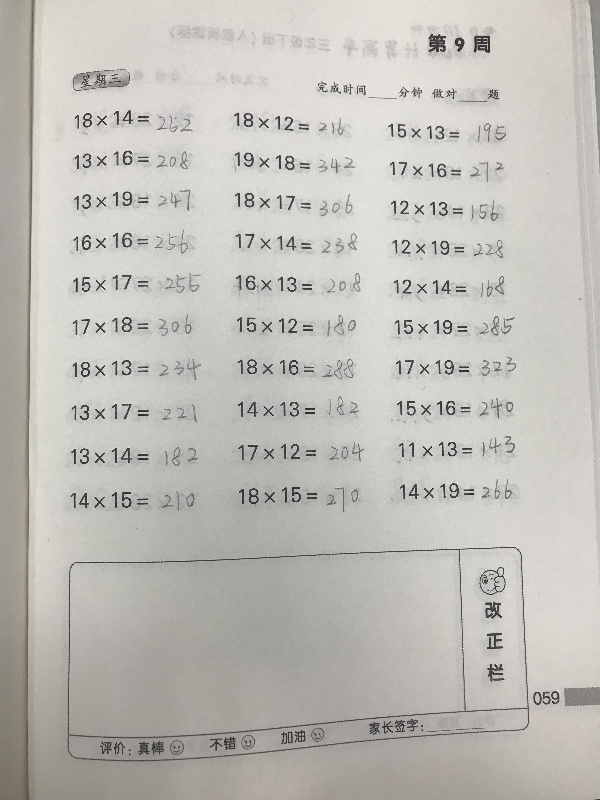equation: (392, 353, 521, 393), (229, 305, 360, 344), (69, 356, 205, 389), (70, 225, 199, 258), (70, 396, 203, 427), (68, 438, 201, 469), (67, 482, 200, 513), (231, 393, 364, 424), (235, 436, 368, 467), (237, 479, 370, 510), (70, 105, 196, 137), (385, 114, 511, 146), (393, 433, 519, 464), (231, 189, 356, 220), (69, 312, 197, 342), (68, 270, 204, 298), (386, 476, 520, 504), (228, 354, 357, 383), (390, 313, 519, 342), (393, 395, 517, 425), (70, 186, 198, 215), (231, 229, 361, 257), (228, 150, 358, 178), (389, 273, 508, 303), (389, 236, 508, 266), (386, 196, 507, 225), (386, 158, 508, 186), (70, 146, 194, 173), (230, 111, 347, 136), (231, 272, 316, 300)
